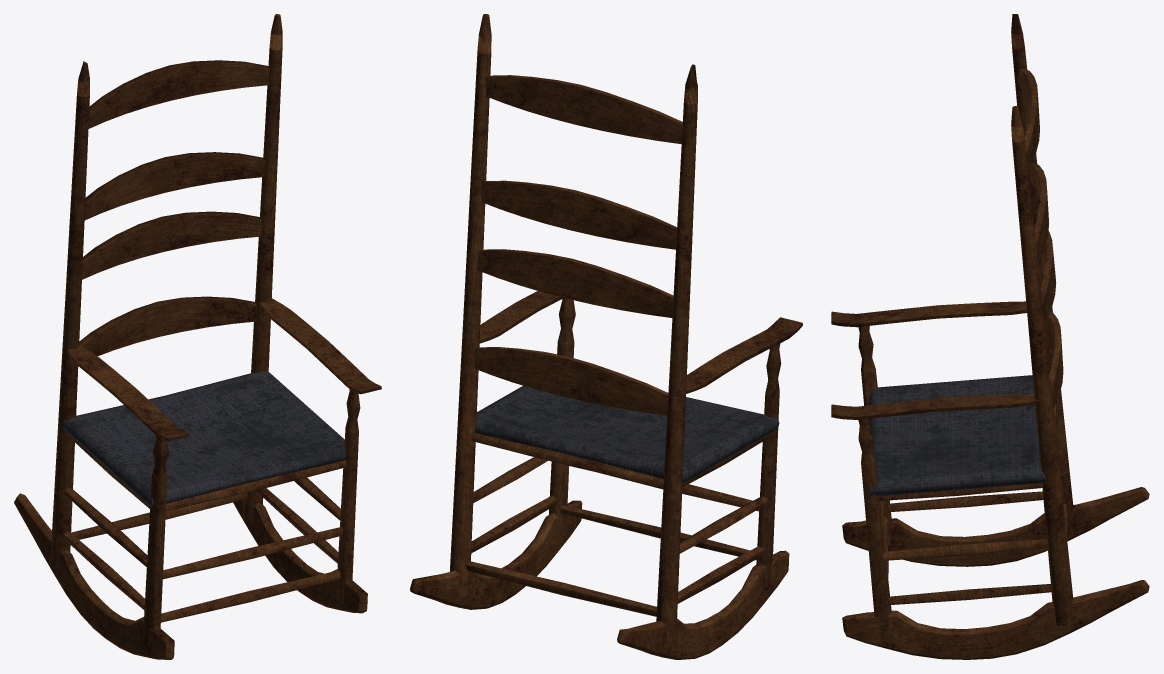
The model's file is Animation chair ricking.fbx.
3 renders of one model, left to right at view 1: azimuth 30°, elevation 25°; view 2: azimuth 150°, elevation 25°; view 3: azimuth 270°, elevation 25°, orthographic. The views are drawn at different scales.
Parts seen in each view (by area): view 1: Chair_Animation:Rocking_chair_LOD0; view 2: Chair_Animation:Rocking_chair_LOD0; view 3: Chair_Animation:Rocking_chair_LOD0.
Part boxes in pixels (<box>): Chair_Animation:Rocking_chair_LOD0: <box>14,14,381,659</box>; Chair_Animation:Rocking_chair_LOD0: <box>410,14,802,659</box>; Chair_Animation:Rocking_chair_LOD0: <box>831,14,1149,659</box>.
Bounding box in the file's own units: 17.1 × 42.71 × 22.32.
Materials: 1 (1 with a texture image).
